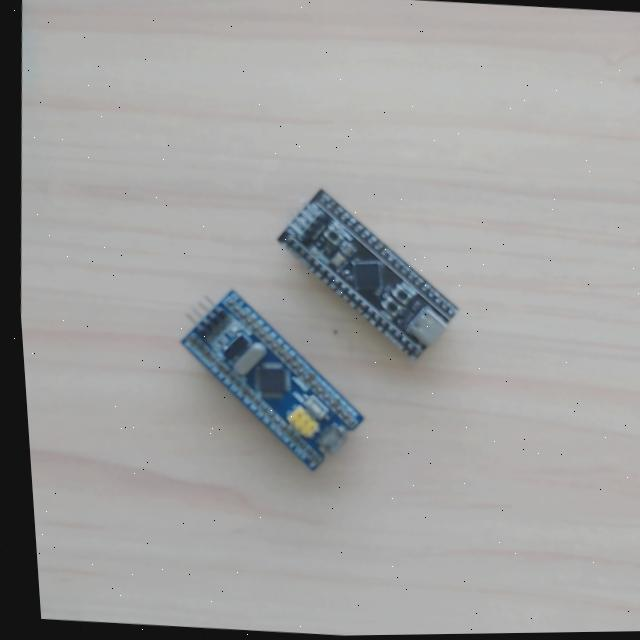STM32-Blackpill: (275, 189, 461, 362)
STM32-Bluepill: (179, 288, 366, 473)
